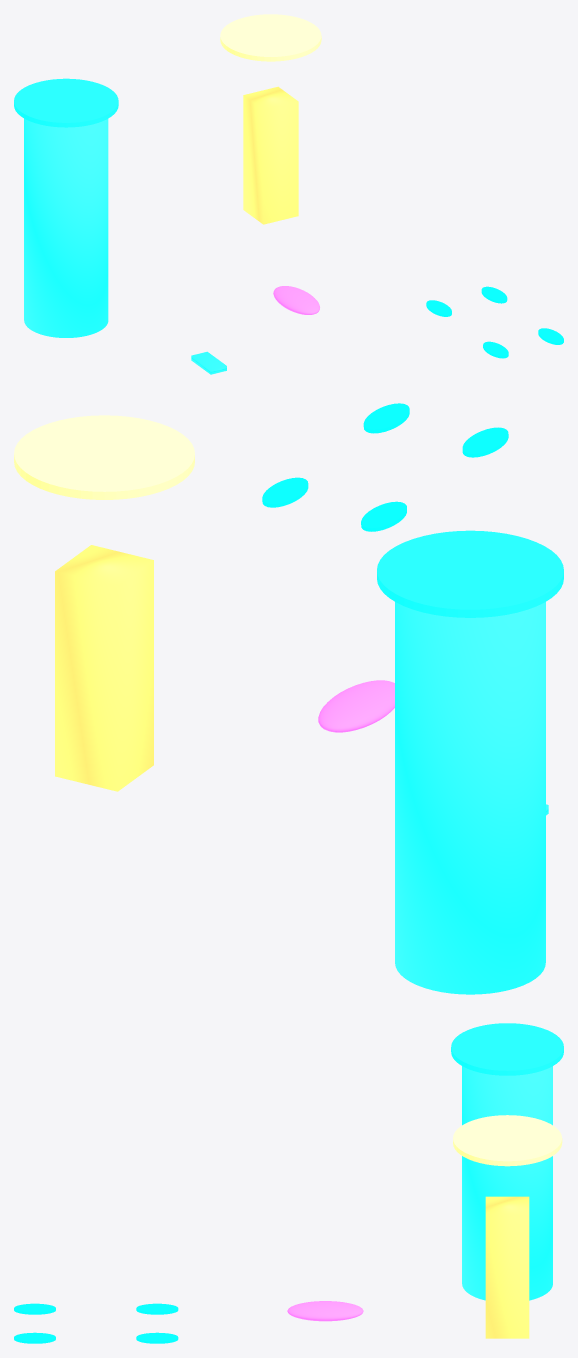
Rendered from WonderWorld_OpenWorld_Sandbox.glb.
The picture shows the model from 3 angles, top to bottom: view 1: azimuth 30°, elevation 25°; view 2: azimuth 150°, elevation 25°; view 3: azimuth 270°, elevation 25°; orthographic projection. The views are drawn at different scales.
Visible parts, largest first — view 1: SM_MamaWonderTower_OpenWorld, SM_PapaWonderTower_OpenWorld, SM_MamaTower_FlyingCar_SkyPad, SM_PapaTower_FlyingCar_SkyPad, SM_PurpleCity_FlyingCar, SM_SoundMagic_StreetCruiser; view 2: SM_MamaWonderTower_OpenWorld, SM_PapaWonderTower_OpenWorld, SM_MamaTower_FlyingCar_SkyPad, SM_PapaTower_FlyingCar_SkyPad, SM_PurpleCity_FlyingCar, SM_FlyingCar_Thruster_1, SM_FlyingCar_Thruster_2, SM_FlyingCar_Thruster_4, SM_FlyingCar_Thruster_3; view 3: SM_MamaWonderTower_OpenWorld, SM_PapaWonderTower_OpenWorld, SM_MamaTower_FlyingCar_SkyPad, SM_PapaTower_FlyingCar_SkyPad, SM_PurpleCity_FlyingCar, SM_FlyingCar_Thruster_3, SM_FlyingCar_Thruster_1, SM_FlyingCar_Thruster_4, SM_FlyingCar_Thruster_2.
Part boxes in pixels (x1=…): SM_MamaWonderTower_OpenWorld: x1=24, y1=118, x2=108, y2=337; SM_PapaWonderTower_OpenWorld: x1=243, y1=86, x2=298, y2=224; SM_MamaTower_FlyingCar_SkyPad: x1=14, y1=78, x2=118, y2=127; SM_PapaTower_FlyingCar_SkyPad: x1=220, y1=14, x2=321, y2=61; SM_PurpleCity_FlyingCar: x1=273, y1=286, x2=319, y2=314; SM_SoundMagic_StreetCruiser: x1=191, y1=351, x2=226, y2=374; SM_MamaWonderTower_OpenWorld: x1=395, y1=602, x2=545, y2=994; SM_PapaWonderTower_OpenWorld: x1=55, y1=545, x2=153, y2=791; SM_MamaTower_FlyingCar_SkyPad: x1=377, y1=530, x2=563, y2=617; SM_PapaTower_FlyingCar_SkyPad: x1=14, y1=415, x2=194, y2=499; SM_PurpleCity_FlyingCar: x1=318, y1=680, x2=394, y2=732; SM_FlyingCar_Thruster_1: x1=462, y1=427, x2=508, y2=457; SM_FlyingCar_Thruster_2: x1=363, y1=403, x2=409, y2=433; SM_FlyingCar_Thruster_4: x1=262, y1=477, x2=308, y2=507; SM_FlyingCar_Thruster_3: x1=361, y1=501, x2=406, y2=531; SM_MamaWonderTower_OpenWorld: x1=462, y1=1066, x2=552, y2=1300; SM_PapaWonderTower_OpenWorld: x1=485, y1=1196, x2=529, y2=1338; SM_MamaTower_FlyingCar_SkyPad: x1=451, y1=1023, x2=563, y2=1075; SM_PapaTower_FlyingCar_SkyPad: x1=453, y1=1115, x2=562, y2=1166; SM_PurpleCity_FlyingCar: x1=287, y1=1301, x2=363, y2=1321; SM_FlyingCar_Thruster_3: x1=136, y1=1303, x2=178, y2=1314; SM_FlyingCar_Thruster_1: x1=14, y1=1303, x2=55, y2=1314; SM_FlyingCar_Thruster_4: x1=136, y1=1332, x2=178, y2=1343; SM_FlyingCar_Thruster_2: x1=14, y1=1332, x2=55, y2=1343.
Bounding box in the file's own units: 43.73 × 30.7 × 60.43.
